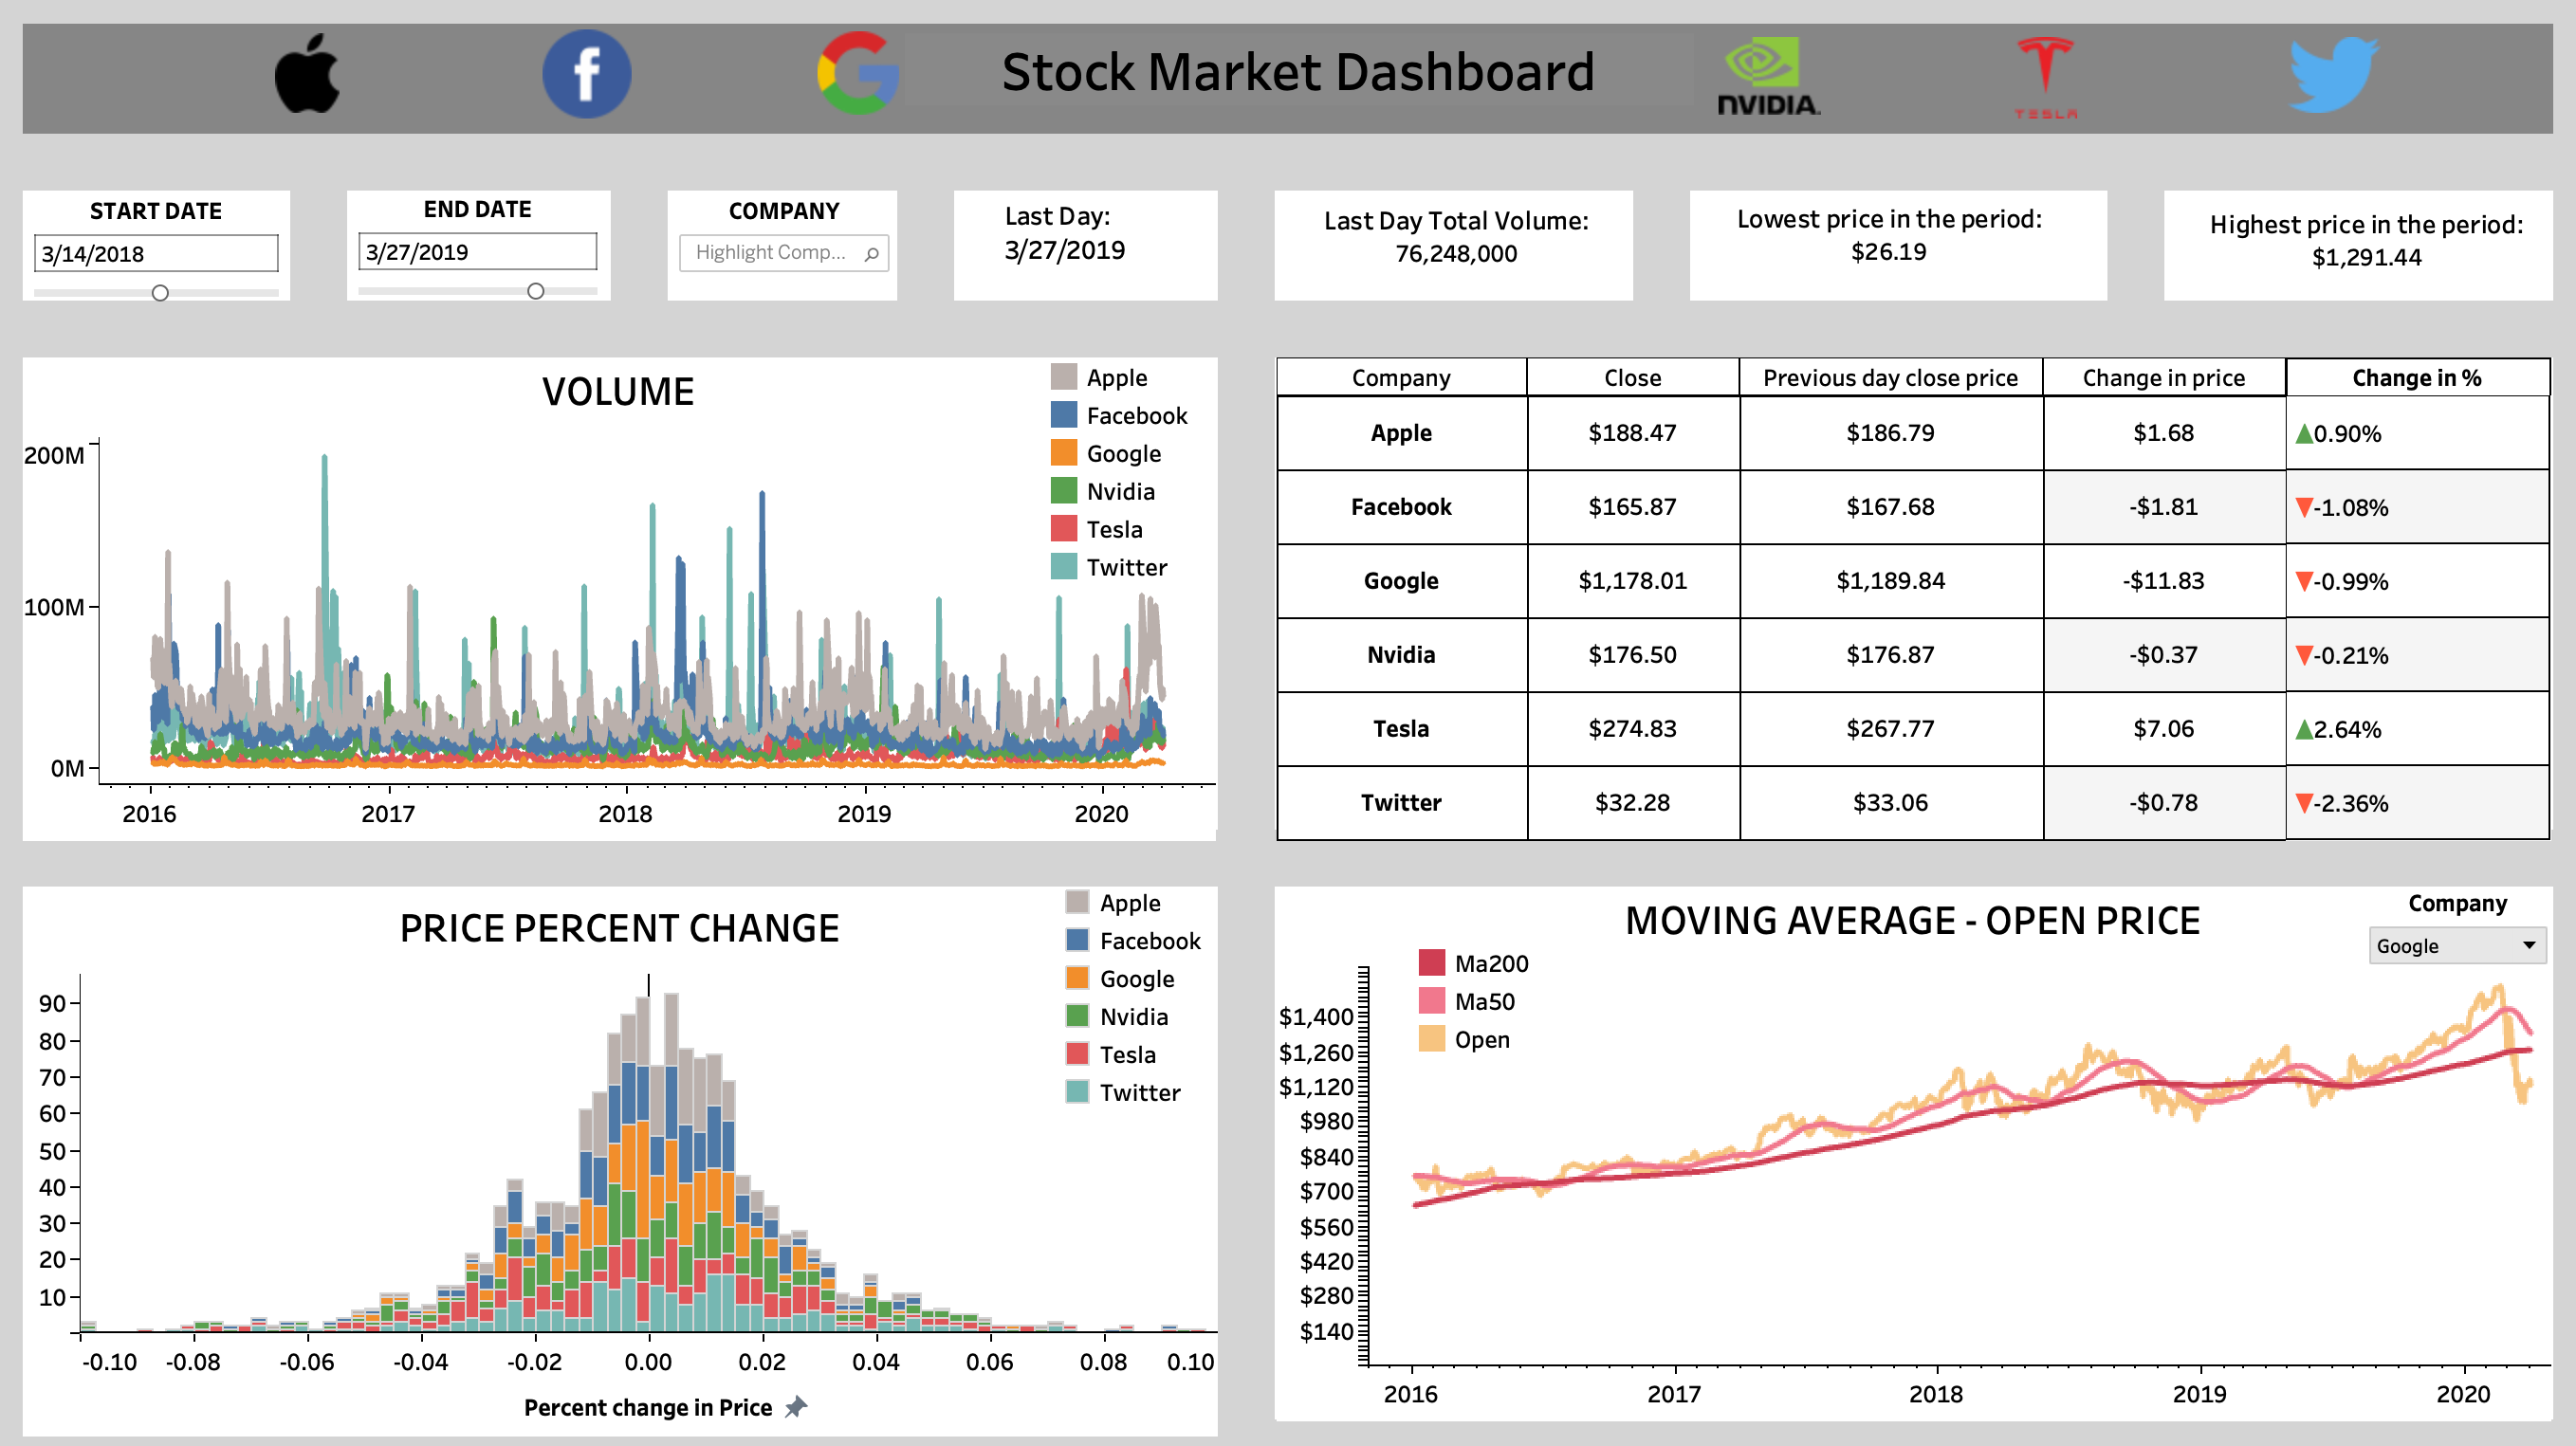

What the dashboard file says about the page in this screenshot:
{"tool":"tableau","page":{"name":"Stock Market Dashboard","canvas":[1366,768],"ordinal":0},"visuals":[{"type":"blank","box":[1,1,1364,87.8]},{"type":"image","param":"/Users/vishwachheda/Downloads/Facebook logo.png","box":[290,19,120,47]},{"type":"image","param":"/Users/vishwachheda/Downloads/Google logo.png","box":[435,20,63,44]},{"type":"image","param":"/Users/vishwachheda/Downloads/Apple logo.png","box":[149,21,60,42]},{"type":"worksheet","title":"Title","mark":"Automatic","box":[481,21,756,44]},{"type":"image","param":"/Users/vishwachheda/Downloads/Nvidia logo.png","box":[910,23,90,41]},{"type":"image","param":"/Users/vishwachheda/Downloads/Tesla logo.png","box":[1066,23,118,43]},{"type":"blank","box":[1,88.8,171,88.2]},{"type":"blank","box":[172,88.8,169,88.2]},{"type":"blank","box":[341,88.8,151,88.2]},{"type":"blank","box":[492,88.8,169,88.2]},{"type":"blank","box":[661,88.8,219,87.8]},{"type":"blank","box":[880,88.8,250,87.8]},{"type":"blank","box":[1130,88.8,235,87.8]},{"type":"parameter","param":"[Parameters].[Parameter 2]","box":[190,105,132,85]},{"type":"parameter","param":"[Parameters].[Parameter 1]","box":[19,106,135,78]},{"type":"highlighter","title":"Volume","param":"[federated.00yf44e0mt2p0616f3o4i06vrzzf].[none:Table Name:nk]","box":[359,106,117,49]},{"type":"worksheet","title":"Last Day","mark":"Automatic","box":[529,108,156,54]},{"type":"worksheet","title":"Lowest Price in the period","mark":"Automatic","box":[915,109,181,62]},{"type":"worksheet","title":"Last Day Volume","mark":"Automatic","box":[696,110,153,55]},{"type":"legend","title":"Volume","param":"[federated.00yf44e0mt2p0616f3o4i06vrzzf].[none:Table Name:nk]","box":[555,174,101,139]},{"type":"blank","box":[661,176.7,704,279.3]},{"type":"blank","box":[1,177,660,279]},{"type":"worksheet","title":"Volume","mark":"Automatic","rows":["Volume"],"cols":["Date"],"box":[16,191,629,256]},{"type":"worksheet","title":"Detailed Price Table","mark":"Automatic","rows":["Table Name","Close","Previous day close price","Change in price"],"box":[677,192,672,260]},{"type":"blank","box":[1,456,660,311]},{"type":"blank","box":[661,456,704,311]},{"type":"legend","title":"Price Percent Change","param":"[federated.00yf44e0mt2p0616f3o4i06vrzzf].[none:Table Name:nk]","box":[562,469,87,122]},{"type":"worksheet","title":"Moving Average","mark":"Automatic","cols":["Date"],"box":[677,470,672,283]},{"type":"filter","title":"Moving Average","param":"[federated.00yf44e0mt2p0616f3o4i06vrzzf].[none:Table Name:nk]","box":[1250,471,100,45]},{"type":"worksheet","title":"Price Percent Change","mark":"Automatic","rows":["Percent change in price"],"cols":["Percent change in price (bin)"],"box":[16,474,630,287]},{"type":"legend","title":"Moving Average","param":"[federated.00yf44e0mt2p0616f3o4i06vrzzf].[:Measure Names]","box":[749,483,72,80]}]}

Visuals, with their boxes in screenshot pixels (x1, y1, x2, y2), scaled from the page's 1366x768 canvas onto the 2576x1446 screenshot:
blank: <bbox>2, 2, 2574, 167</bbox>
image: <bbox>547, 36, 773, 124</bbox>
image: <bbox>820, 38, 939, 120</bbox>
image: <bbox>281, 40, 395, 119</bbox>
"Title" worksheet: <bbox>907, 40, 2333, 122</bbox>
image: <bbox>1716, 44, 1886, 120</bbox>
image: <bbox>2011, 44, 2233, 124</bbox>
blank: <bbox>2, 167, 324, 333</bbox>
blank: <bbox>324, 167, 643, 333</bbox>
blank: <bbox>643, 167, 928, 333</bbox>
blank: <bbox>928, 167, 1246, 333</bbox>
blank: <bbox>1246, 167, 1660, 333</bbox>
blank: <bbox>1660, 167, 2131, 333</bbox>
blank: <bbox>2131, 167, 2574, 333</bbox>
parameter: <bbox>359, 197, 607, 357</bbox>
parameter: <bbox>36, 199, 290, 346</bbox>
"Volume" highlighter: <bbox>677, 199, 897, 292</bbox>
"Last Day" worksheet: <bbox>998, 203, 1292, 305</bbox>
"Lowest Price in the period" worksheet: <bbox>1725, 205, 2067, 322</bbox>
"Last Day Volume" worksheet: <bbox>1313, 207, 1601, 311</bbox>
"Volume" legend: <bbox>1046, 328, 1237, 590</bbox>
blank: <bbox>1246, 333, 2574, 858</bbox>
blank: <bbox>2, 333, 1246, 858</bbox>
"Volume" worksheet: <bbox>30, 359, 1216, 842</bbox>
"Detailed Price Table" worksheet: <bbox>1277, 361, 2544, 851</bbox>
blank: <bbox>2, 858, 1246, 1444</bbox>
blank: <bbox>1246, 858, 2574, 1444</bbox>
"Price Percent Change" legend: <bbox>1059, 883, 1224, 1113</bbox>
"Moving Average" worksheet: <bbox>1277, 885, 2544, 1418</bbox>
"Moving Average" filter: <bbox>2357, 887, 2546, 972</bbox>
"Price Percent Change" worksheet: <bbox>30, 892, 1218, 1433</bbox>
"Moving Average" legend: <bbox>1412, 909, 1548, 1060</bbox>
